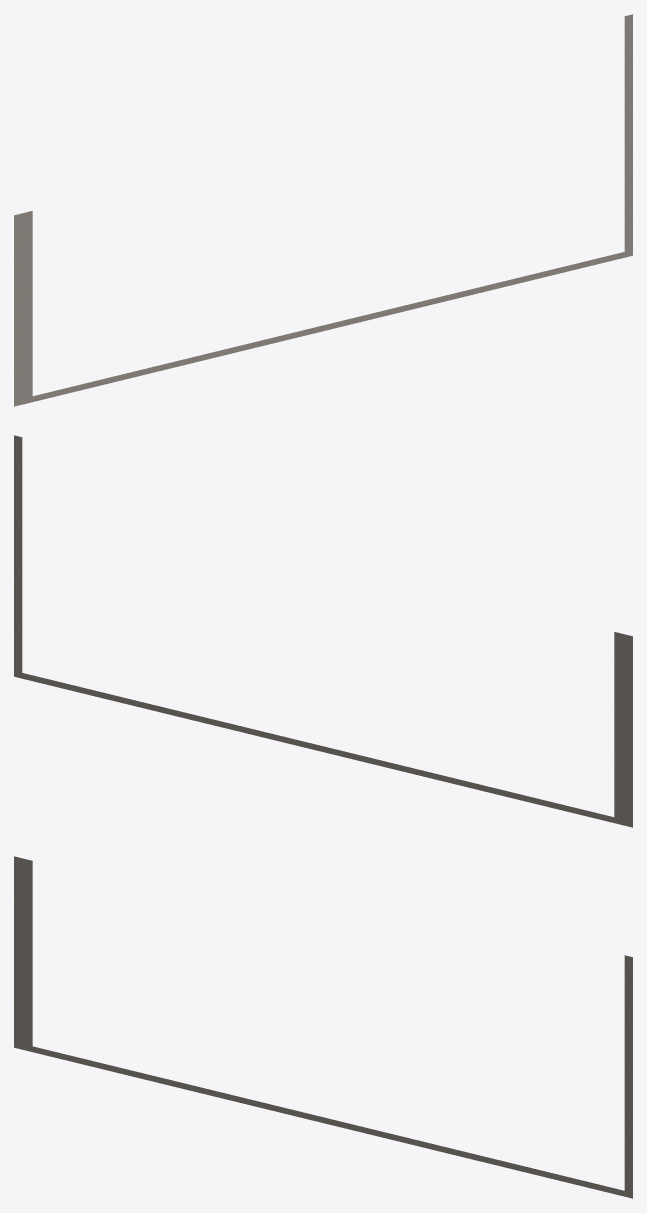
File: kd_stage_135ded_4_82_bounded_piece_8.glb
The picture shows the model from 3 angles, top to bottom: view 1: azimuth 30°, elevation 25°; view 2: azimuth 150°, elevation 25°; view 3: azimuth 330°, elevation 25°; orthographic projection.
Parts seen in each view (by area): view 1: kd_stage_135ded_4_82_bounded_piece_8; view 2: kd_stage_135ded_4_82_bounded_piece_8; view 3: kd_stage_135ded_4_82_bounded_piece_8.
Boxes of the visible parts, x1,y1,x2,y2 form: kd_stage_135ded_4_82_bounded_piece_8: (14, 14, 632, 406); kd_stage_135ded_4_82_bounded_piece_8: (14, 435, 632, 827); kd_stage_135ded_4_82_bounded_piece_8: (14, 856, 632, 1198).
Bounding box in the file's own units: 2.2 × 0.82 × 0.
1 material, 1 textured.
